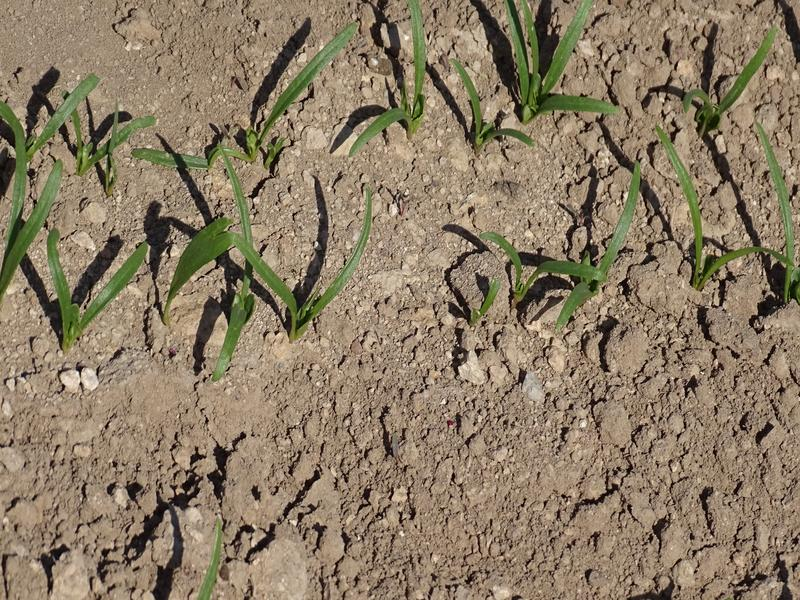Espinaca: (180, 60, 374, 353), (3, 86, 155, 342), (643, 67, 798, 297), (467, 167, 641, 327), (478, 3, 619, 122), (369, 7, 441, 140)
